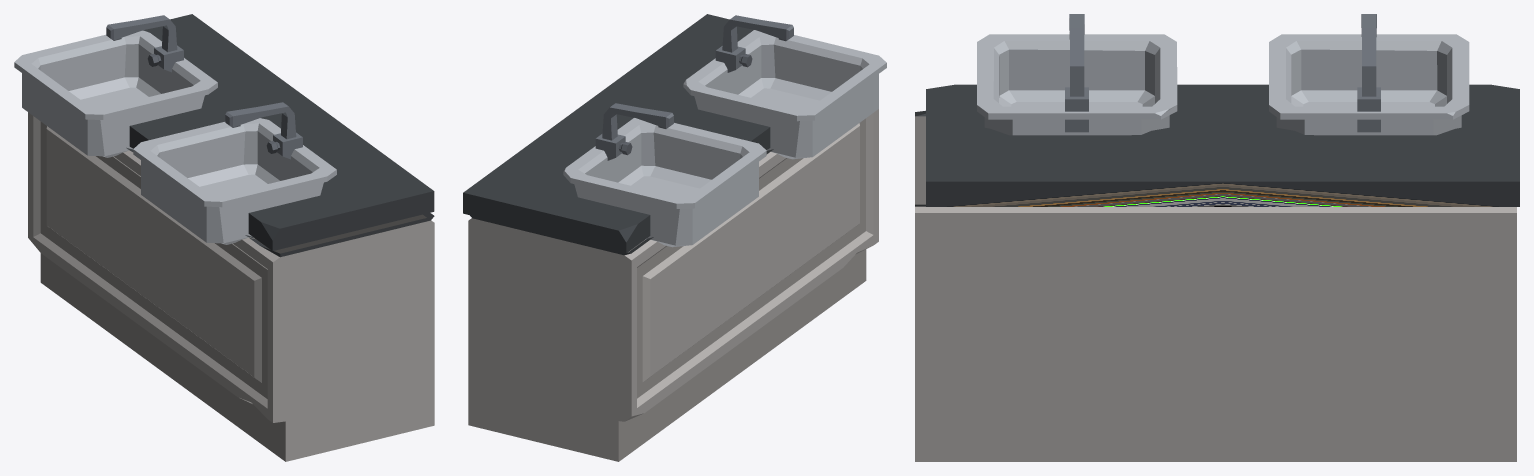
File: SM_Prop_Bathroom_Lavabo.fbx
3 views of the same model, side by side, from view 1: azimuth 30°, elevation 25°; view 2: azimuth 150°, elevation 25°; view 3: azimuth 270°, elevation 25° (orthographic). The views are drawn at different scales.
Parts seen in each view (by area): view 1: SM_Prop_Bathroom_Lavabo; view 2: SM_Prop_Bathroom_Lavabo; view 3: SM_Prop_Bathroom_Lavabo.
Boxes of the visible parts, x1=… form: SM_Prop_Bathroom_Lavabo: x1=14, y1=14, x2=434, y2=461; SM_Prop_Bathroom_Lavabo: x1=463, y1=14, x2=886, y2=461; SM_Prop_Bathroom_Lavabo: x1=915, y1=14, x2=1519, y2=461.
Bounding box in the file's own units: 82.32 × 115 × 172.
Materials: 1 (1 with a texture image).
